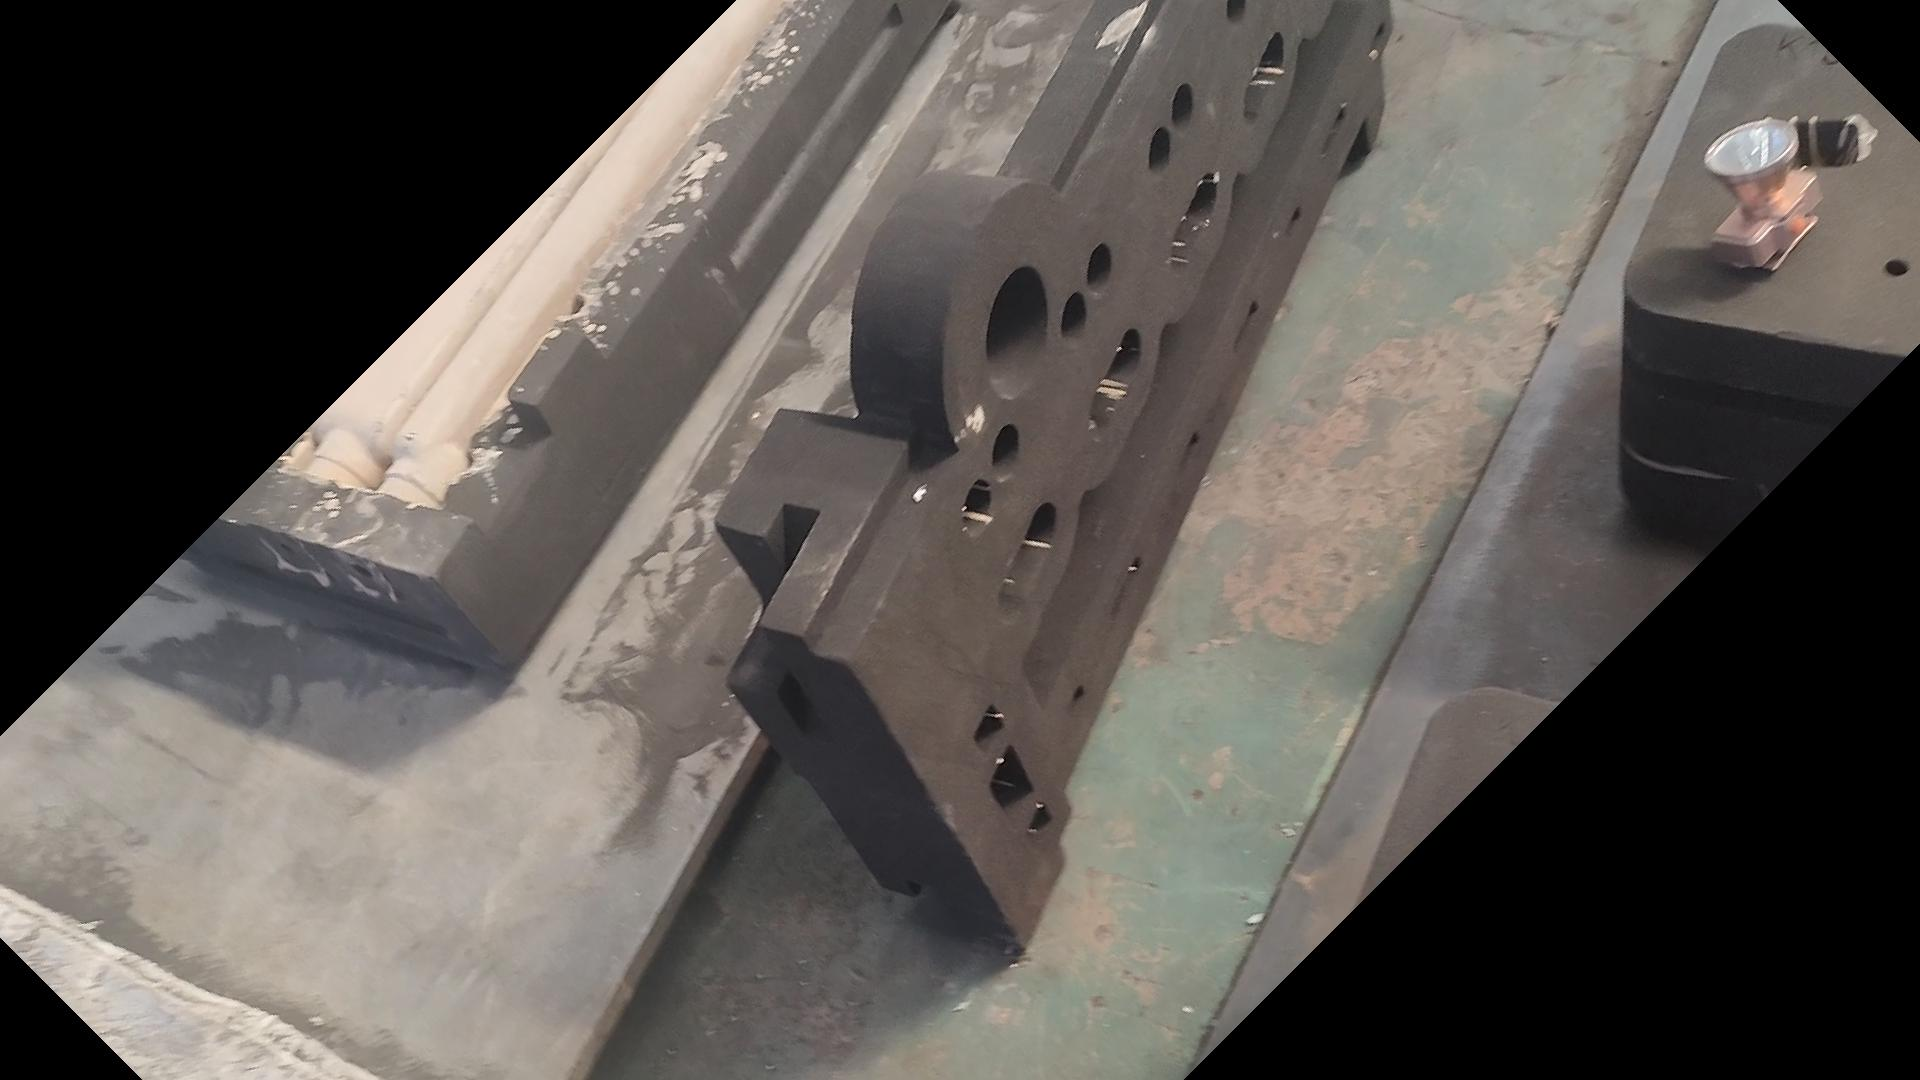pouring hole: (986, 265, 1048, 400)
